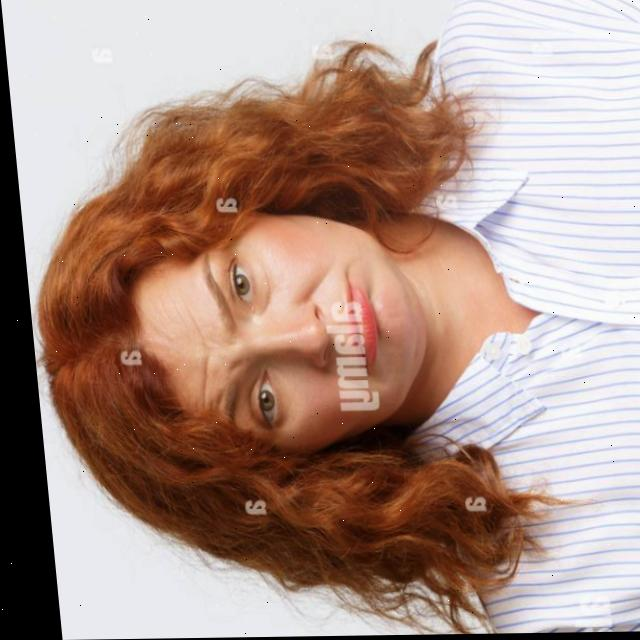sad: (62, 150, 456, 494)
